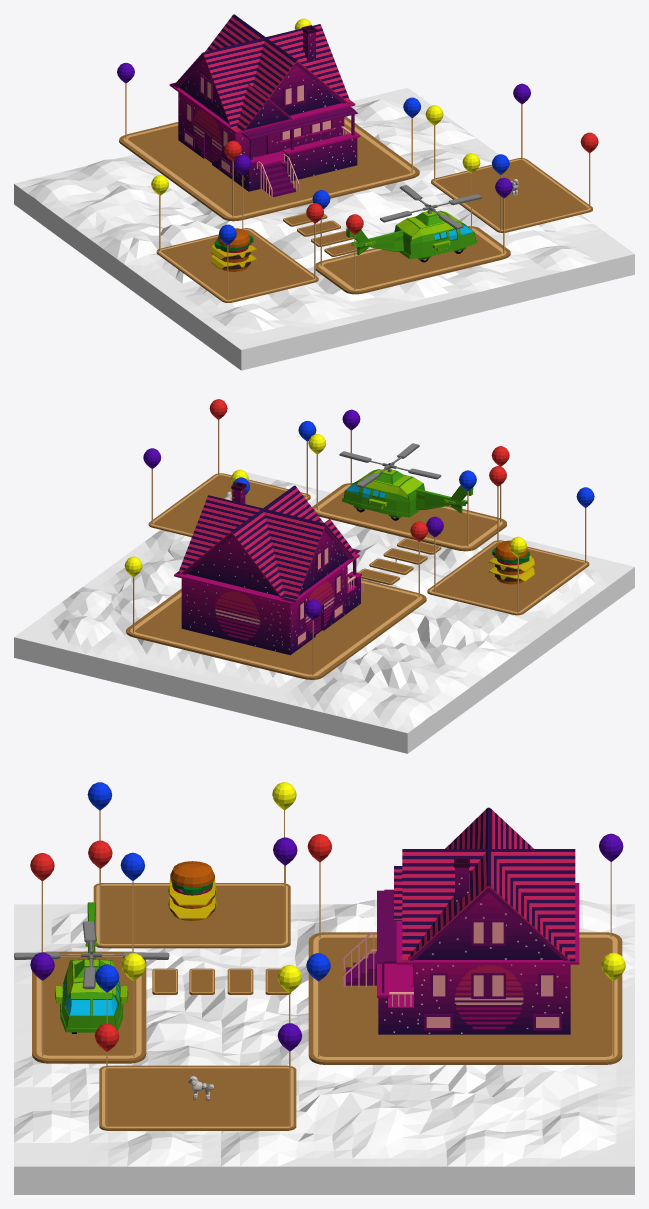
3 views of the same model, one above another, from view 1: azimuth 30°, elevation 25°; view 2: azimuth 150°, elevation 25°; view 3: azimuth 270°, elevation 25° (orthographic). The views are drawn at different scales.
Parts seen in each view (by area): view 1: Cube.013, Cube.156, VEHICLES_HELICOPTER, OBJRANDOM_HAMBURGER; view 2: Cube.013, Cube.156, VEHICLES_HELICOPTER, OBJRANDOM_HAMBURGER; view 3: Cube.013, Cube.156, VEHICLES_HELICOPTER, OBJRANDOM_HAMBURGER.
Part boxes in pixels (x1,y1,x2,y2): Cube.013: [14, 18, 634, 370]; Cube.156: [169, 14, 360, 198]; VEHICLES_HELICOPTER: [346, 185, 481, 262]; OBJRANDOM_HAMBURGER: [211, 228, 257, 271]; Cube.013: [14, 399, 634, 753]; Cube.156: [174, 482, 363, 655]; VEHICLES_HELICOPTER: [339, 443, 473, 520]; OBJRANDOM_HAMBURGER: [488, 540, 534, 584]; Cube.013: [14, 782, 634, 1194]; Cube.156: [343, 807, 579, 1034]; VEHICLES_HELICOPTER: [14, 902, 169, 1033]; OBJRANDOM_HAMBURGER: [168, 861, 216, 920].
Size of the model in its own units: 4000 by 1687 by 4001.
35 materials, 3 textured.
